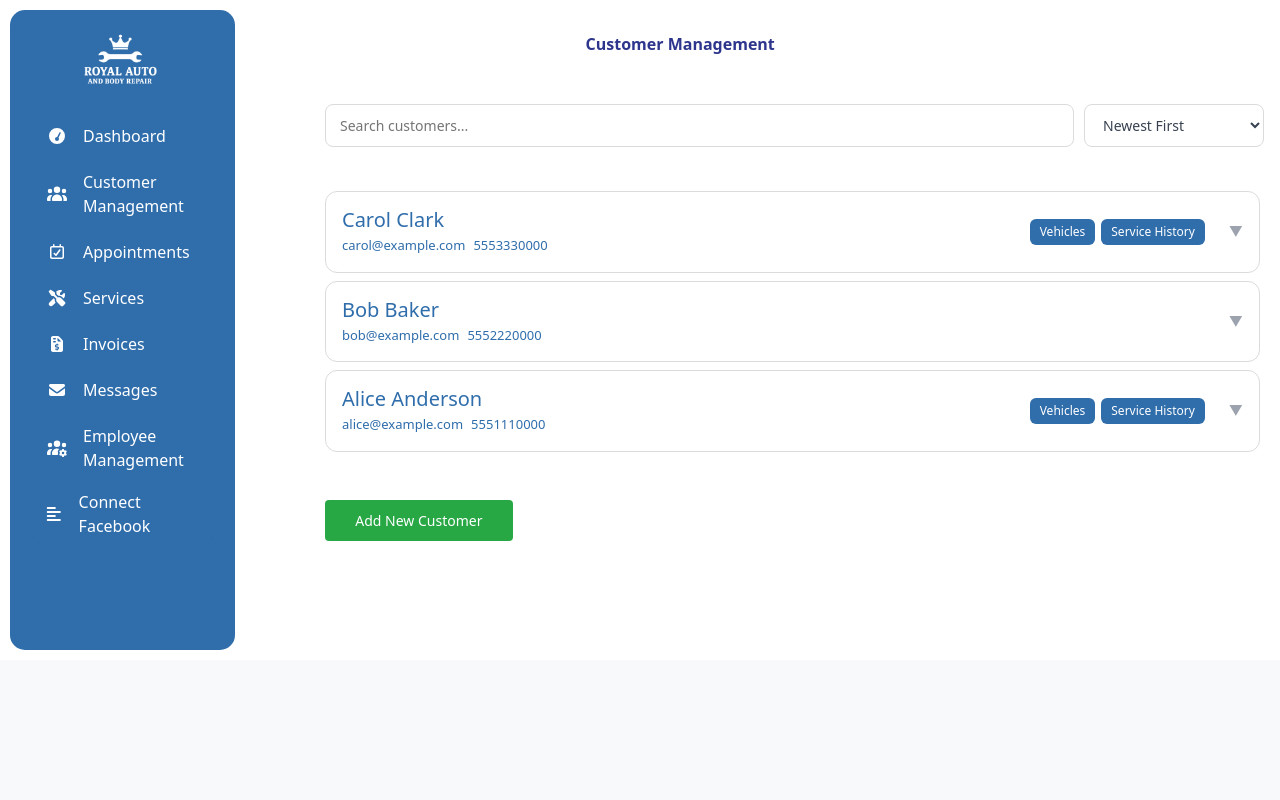
Test: Search & Sort › filters customers by name
Expected: the heading "Alice Anderson" is shown, x1=342 y1=385 x2=482 y2=412
Step 1. Type "alice" into the field with placeholder "Search customers..." → (700, 126), box x1=325 y1=104 x2=1074 y2=147
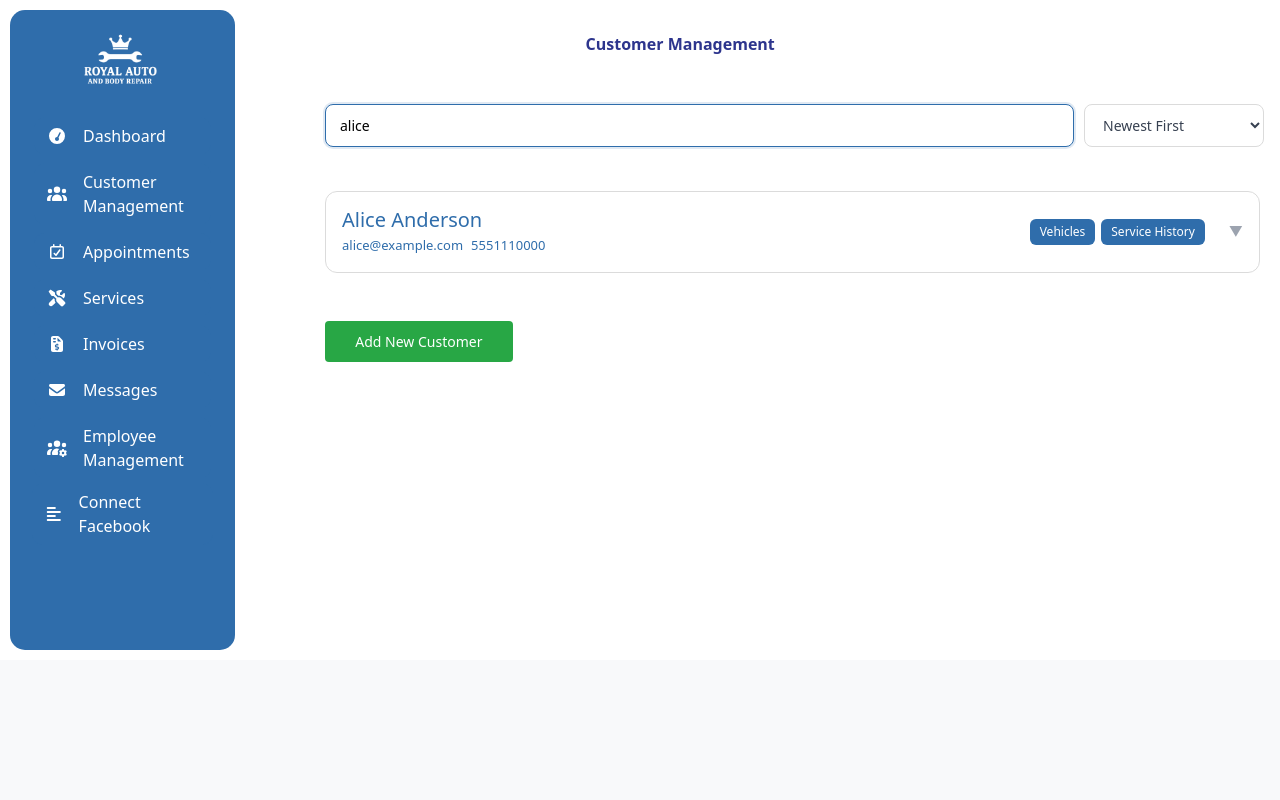
Expected: the heading "Alice Anderson" is shown, x1=342 y1=206 x2=482 y2=233
Result: the heading "Bob Baker" is gone
Result: the heading "Carol Clark" is gone
